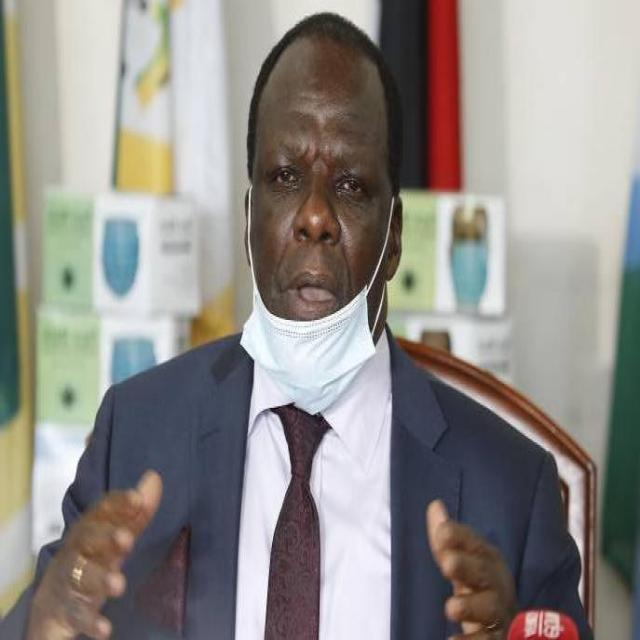hairnet: (235, 78, 398, 396)
